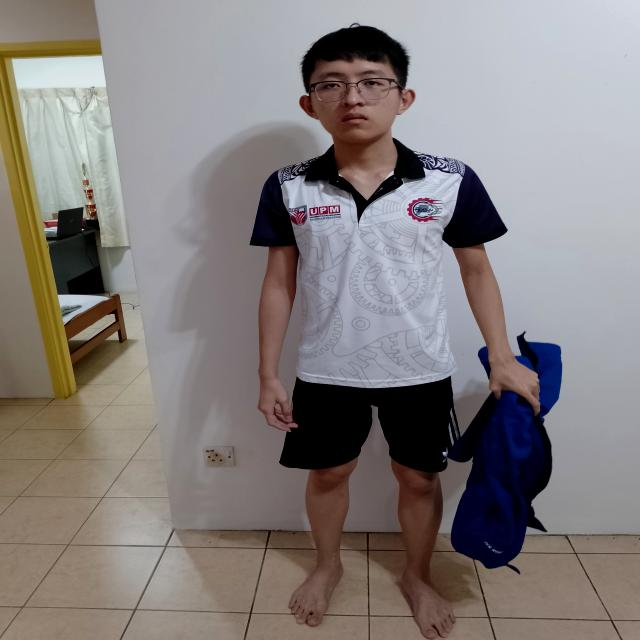person_without_labcoat: (250, 25, 562, 640)
